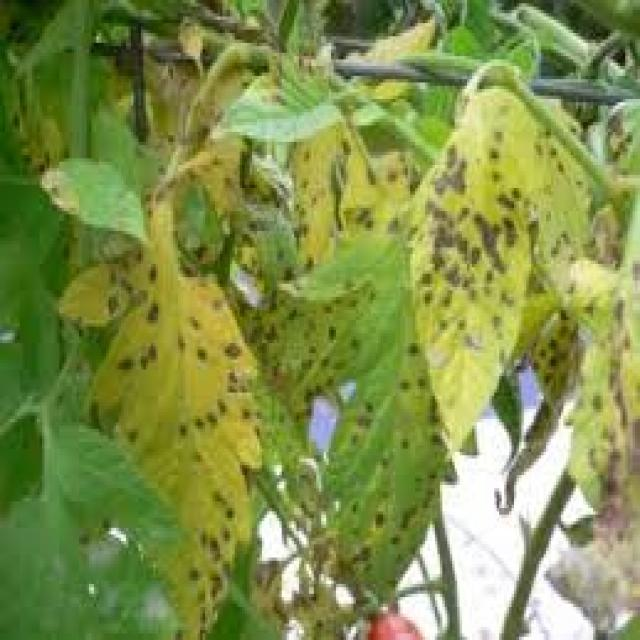bercak_daun: (407, 110, 533, 451)
